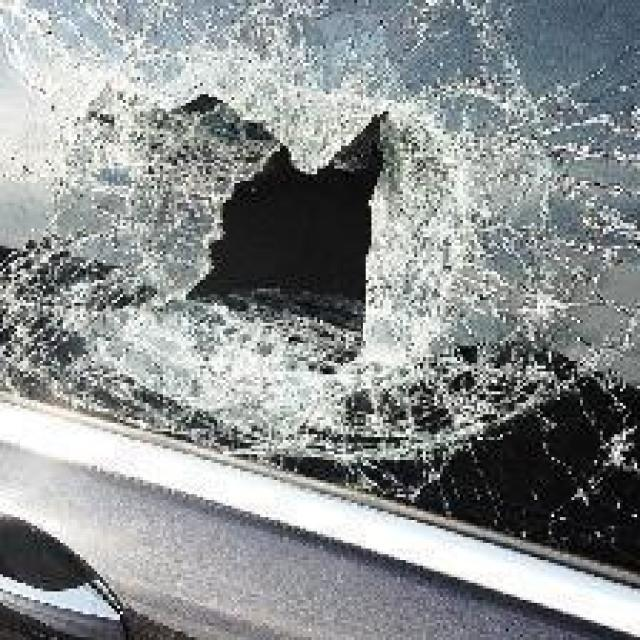damaged: (14, 37, 637, 500)
